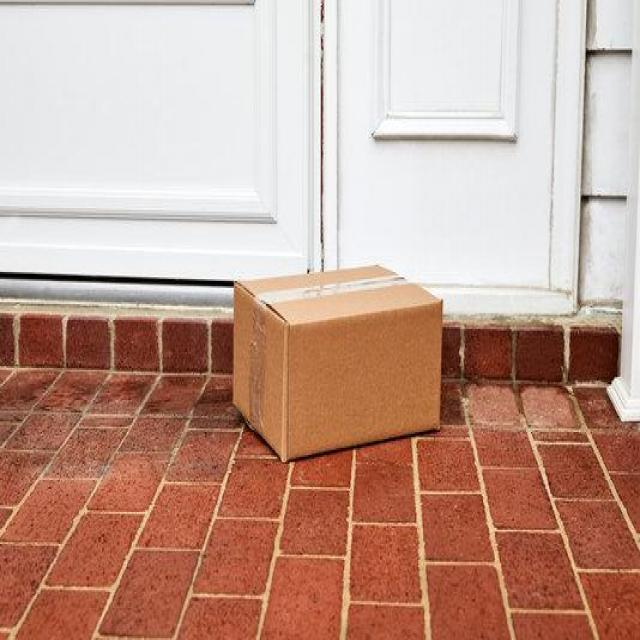box: (230, 248, 446, 469)
